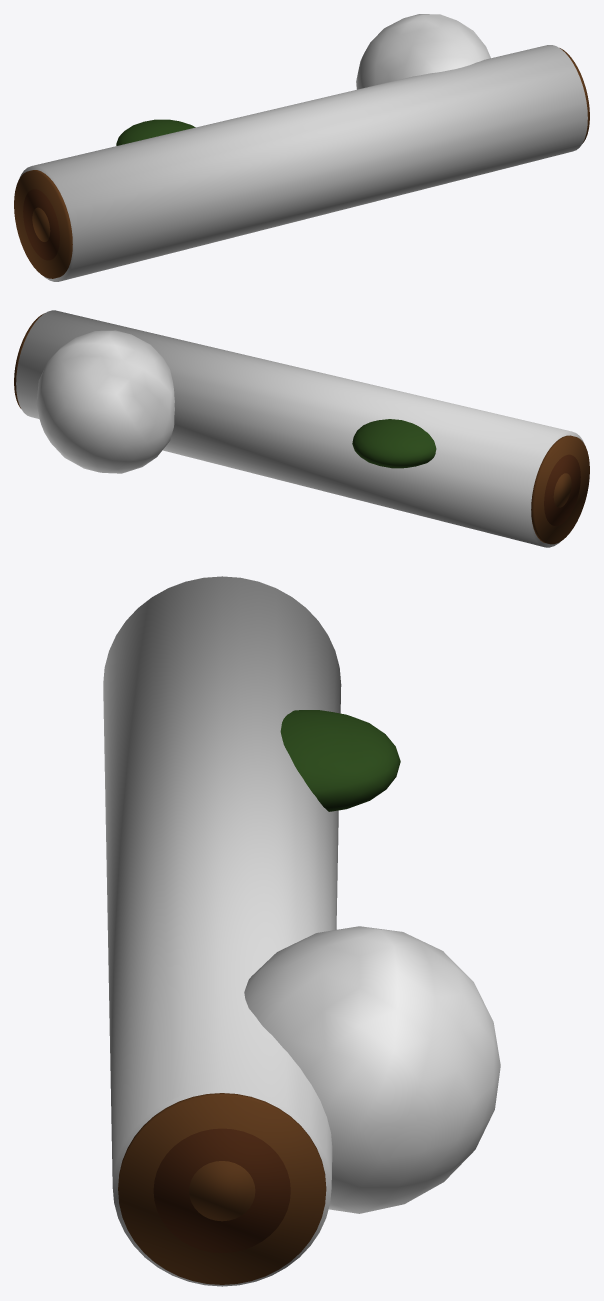
File: fallen-log-obstacle.obj
3 views of the same model, one above another, from view 1: azimuth 30°, elevation 25°; view 2: azimuth 150°, elevation 25°; view 3: azimuth 270°, elevation 25° (orthographic). The views are drawn at different scales.
Parts seen in each view (by area): view 1: fallen-log-obstacle; view 2: fallen-log-obstacle; view 3: fallen-log-obstacle.
Part boxes in pixels (x1,y1,x2,y2): fallen-log-obstacle: (14, 14, 589, 281); fallen-log-obstacle: (14, 310, 589, 547); fallen-log-obstacle: (103, 576, 500, 1286).
Size of the model in its own units: 2.64 by 0.6335 by 0.8687.
